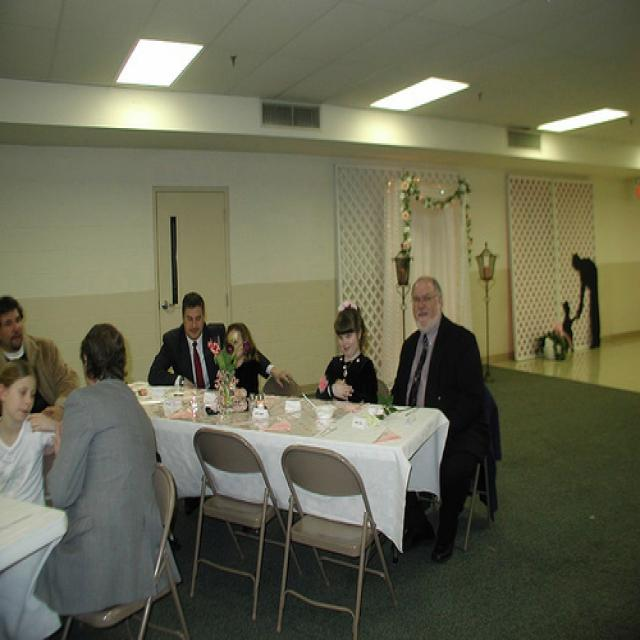adult: (58, 316, 194, 614), (389, 268, 501, 544), (144, 288, 258, 418), (0, 292, 68, 414)
child: (0, 359, 61, 640), (316, 303, 381, 406), (227, 318, 289, 411)
